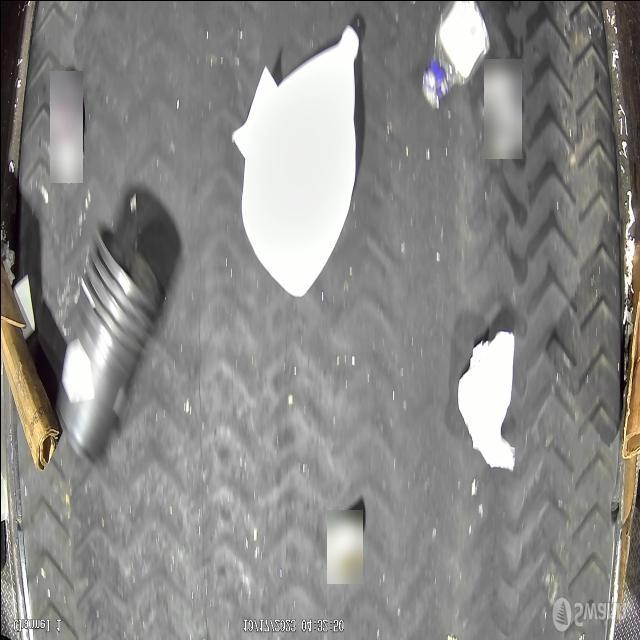milk_jug: (236, 21, 358, 300)
plastic_bottle: (419, 1, 490, 111)
